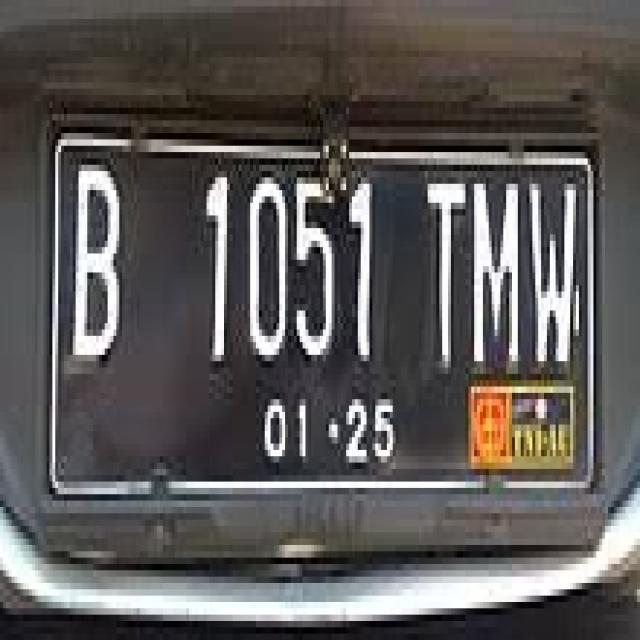license-plat: (44, 104, 609, 559)
